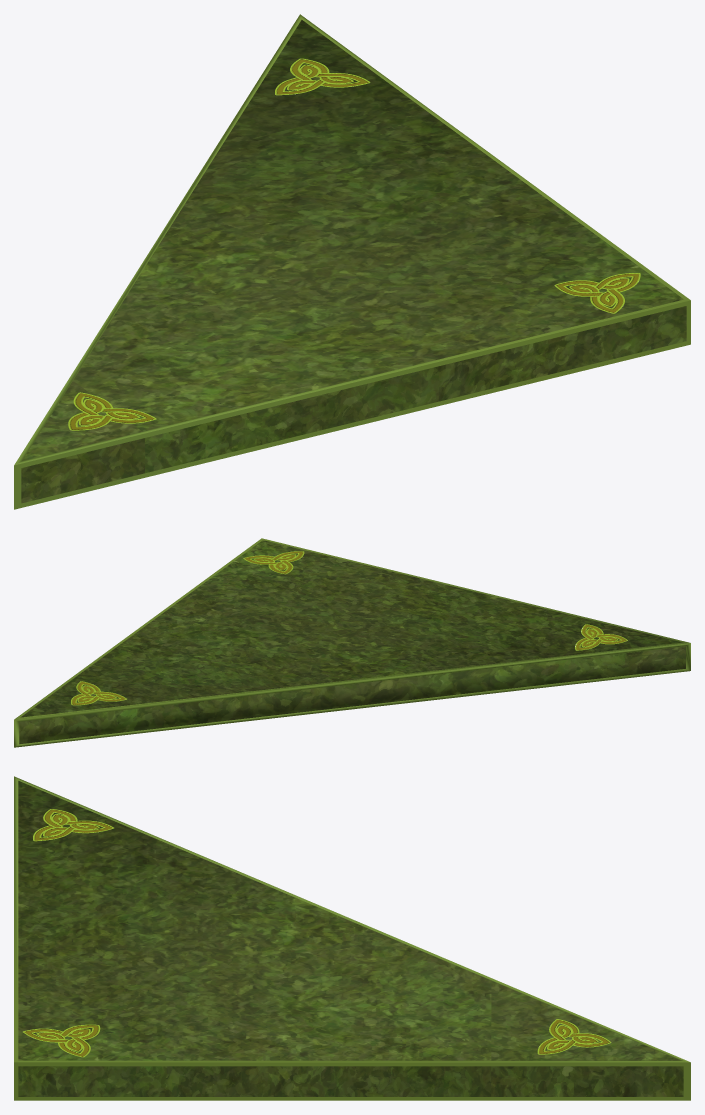
The model's file is mountain_half_floor.gltf.
3 renders of one model, top to bottom at view 1: azimuth 30°, elevation 25°; view 2: azimuth 150°, elevation 25°; view 3: azimuth 270°, elevation 25°, orthographic. The views are drawn at different scales.
Visible parts, largest first — view 1: mountain_half_floor_glb; view 2: mountain_half_floor_glb; view 3: mountain_half_floor_glb.
Part boxes in pixels (x1,y1,x2,y2): mountain_half_floor_glb: (14,14,690,509); mountain_half_floor_glb: (14,538,690,747); mountain_half_floor_glb: (14,776,690,1100).
Size of what is drawn, in the model's own units: 4 by 0.2524 by 4.
Materials: 2 (2 with a texture image).
